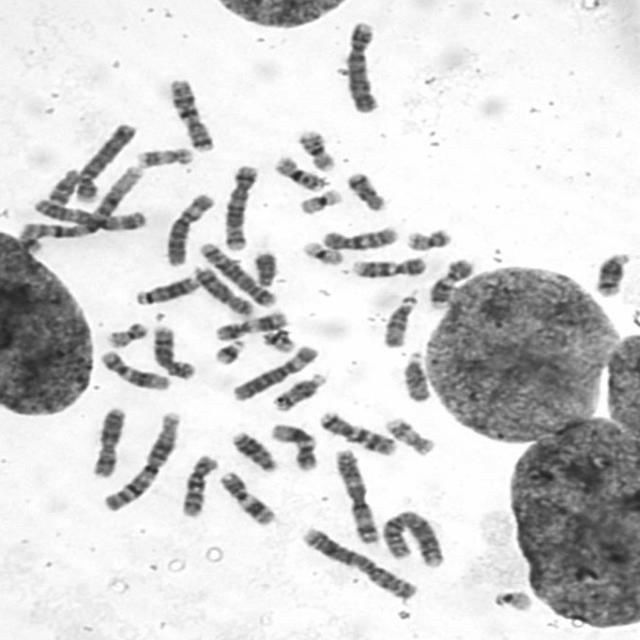A1: (19, 160, 146, 240), (97, 406, 184, 514)
A2: (296, 522, 420, 601), (376, 504, 449, 569)
A3: (329, 443, 382, 545), (27, 195, 148, 232)
B4: (70, 118, 139, 205), (340, 16, 383, 114)
B5: (193, 237, 278, 308), (218, 159, 261, 252)
C10: (174, 449, 222, 519), (318, 221, 402, 252)
C11: (214, 466, 279, 527), (210, 306, 291, 342)
C12: (95, 346, 173, 392), (266, 418, 321, 472)
C6: (226, 339, 322, 402), (160, 188, 218, 267)
C7: (162, 72, 217, 152), (315, 406, 401, 457)
C8: (189, 261, 256, 318), (146, 320, 198, 381)
C9: (423, 253, 477, 309), (346, 251, 429, 280)
D13: (129, 270, 202, 306), (225, 426, 280, 473)
D14: (268, 368, 330, 412), (590, 247, 634, 298)
D15: (378, 289, 420, 349), (397, 346, 433, 404)
E16: (268, 150, 329, 192), (292, 125, 339, 172)
E17: (380, 412, 438, 457), (131, 142, 196, 170)
E18: (342, 166, 389, 212), (41, 163, 82, 205)
F19: (294, 183, 345, 216), (298, 236, 347, 266)
F20: (102, 316, 151, 350), (401, 223, 454, 252)
G21: (208, 334, 248, 366), (13, 223, 43, 254)
G22: (488, 585, 535, 613), (256, 326, 298, 354)
X: (86, 402, 128, 479)
Y: (248, 247, 278, 288)
